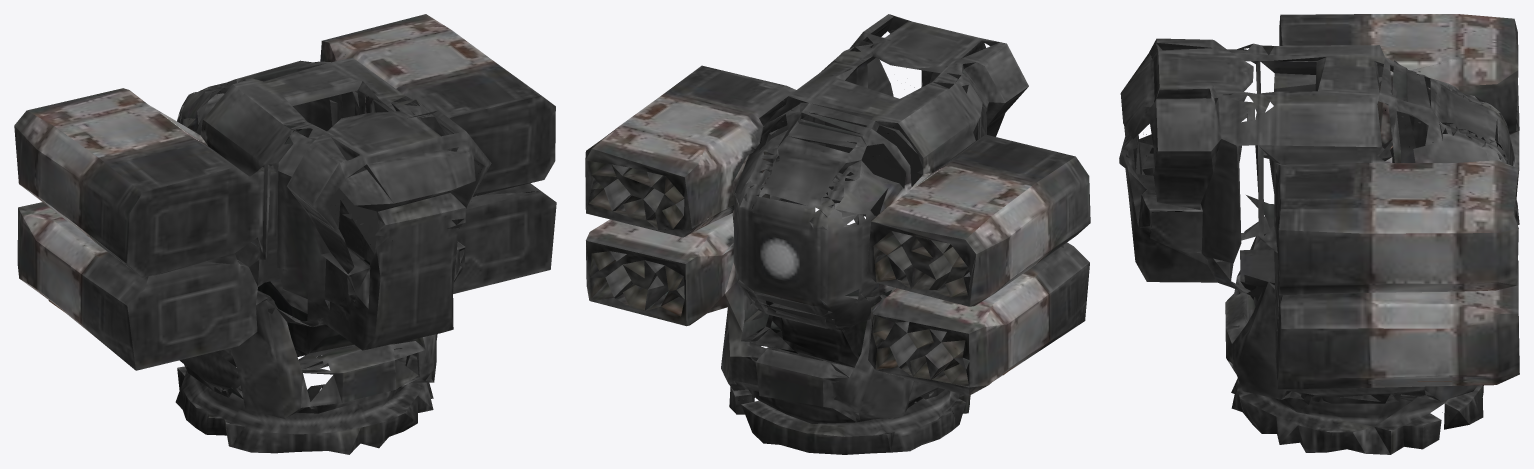
3 views of the same model, side by side, from view 1: azimuth 30°, elevation 25°; view 2: azimuth 150°, elevation 25°; view 3: azimuth 270°, elevation 25° (orthographic). The views are drawn at different scales.
Parts seen in each view (by area): view 1: body; view 2: body; view 3: body.
Boxes of the visible parts, x1,y1,x2,y2 form: body: (14,14,556,454); body: (585,14,1090,454); body: (1119,14,1519,454).
Bounding box in the file's own units: 2.38 × 1.75 × 1.9.
Materials: 1 (1 with a texture image).
